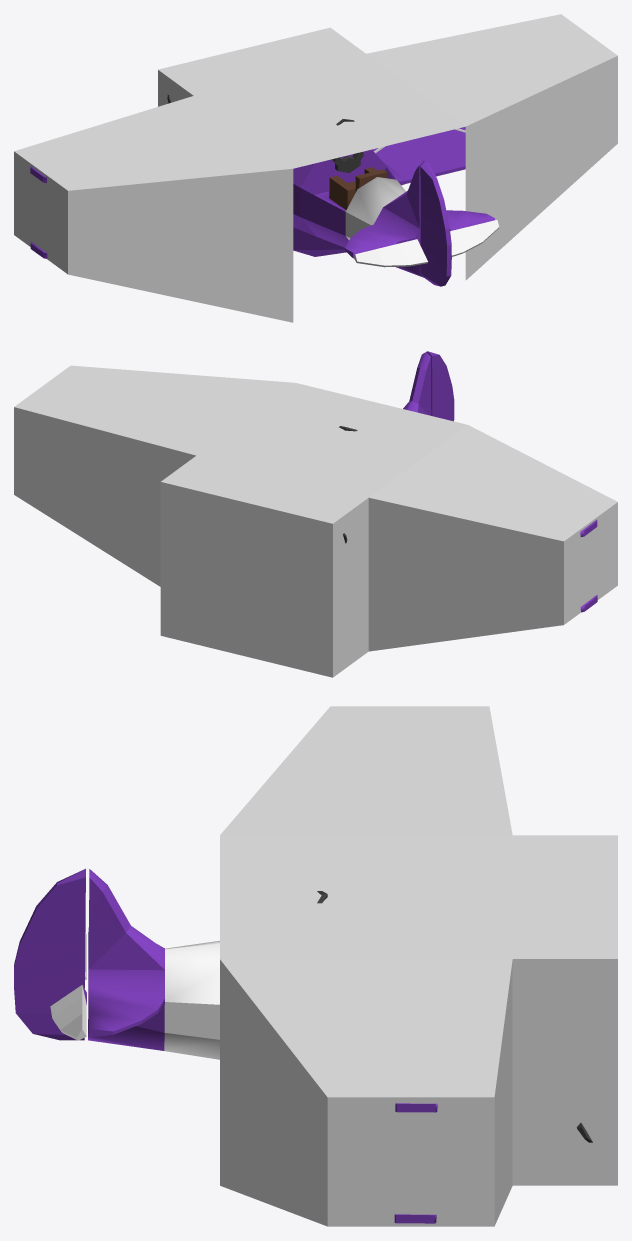
Rendered from Enemy_Plane2.glb.
3 views of the same model, one above another, from view 1: azimuth 30°, elevation 25°; view 2: azimuth 150°, elevation 25°; view 3: azimuth 270°, elevation 25° (orthographic). The views are drawn at different scales.
Parts seen in each view (by area): view 1: Box, airplne body, tail, left rudder, right rudder; view 2: Box, airplne body, tail; view 3: Box, airplne body, tail, right rudder.
Part boxes in pixels (bbox=[...]): Box: bbox=[14, 14, 617, 322]; airplne body: bbox=[30, 119, 494, 277]; tail: bbox=[420, 162, 451, 286]; left rudder: bbox=[354, 239, 427, 267]; right rudder: bbox=[450, 220, 499, 256]; Box: bbox=[14, 365, 617, 677]; airplne body: bbox=[339, 352, 597, 612]; tail: bbox=[423, 351, 454, 421]; Box: bbox=[220, 706, 617, 1226]; airplne body: bbox=[82, 869, 437, 1223]; tail: bbox=[14, 868, 85, 1040]; right rudder: bbox=[50, 985, 86, 1040].
Bounding box in the file's own units: 3.78 × 1.15 × 2.44.
Materials: 5 (5 with a texture image).
